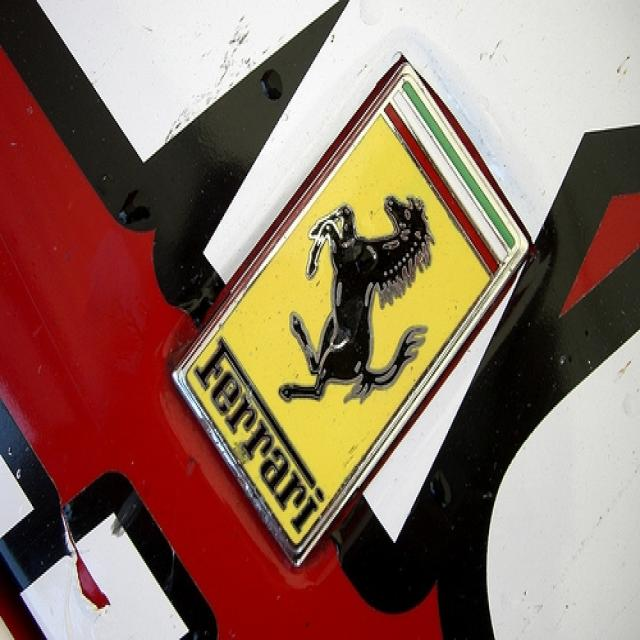ferrari: (182, 60, 527, 560)
